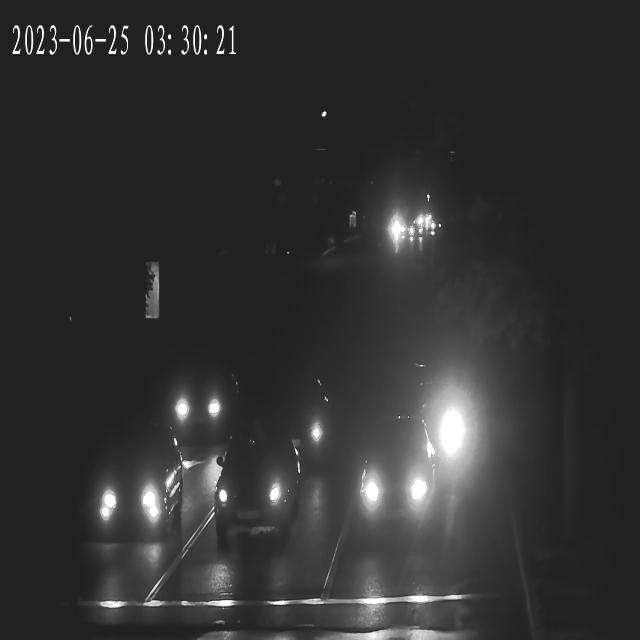Car: (70, 425, 186, 544), (388, 357, 469, 489), (208, 440, 305, 550), (342, 435, 438, 536), (250, 380, 332, 466), (162, 366, 237, 436), (385, 218, 416, 242), (389, 224, 420, 244), (392, 222, 422, 241), (396, 225, 424, 242), (414, 214, 433, 228)
